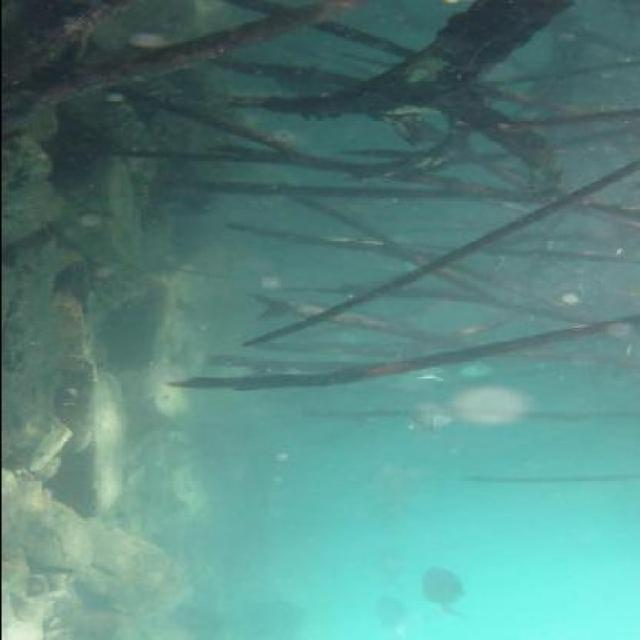Caranx_sexfasciatus_juvenile: (399, 397, 468, 446), (414, 574, 469, 632), (366, 592, 416, 631), (368, 553, 414, 584), (381, 373, 433, 395)
